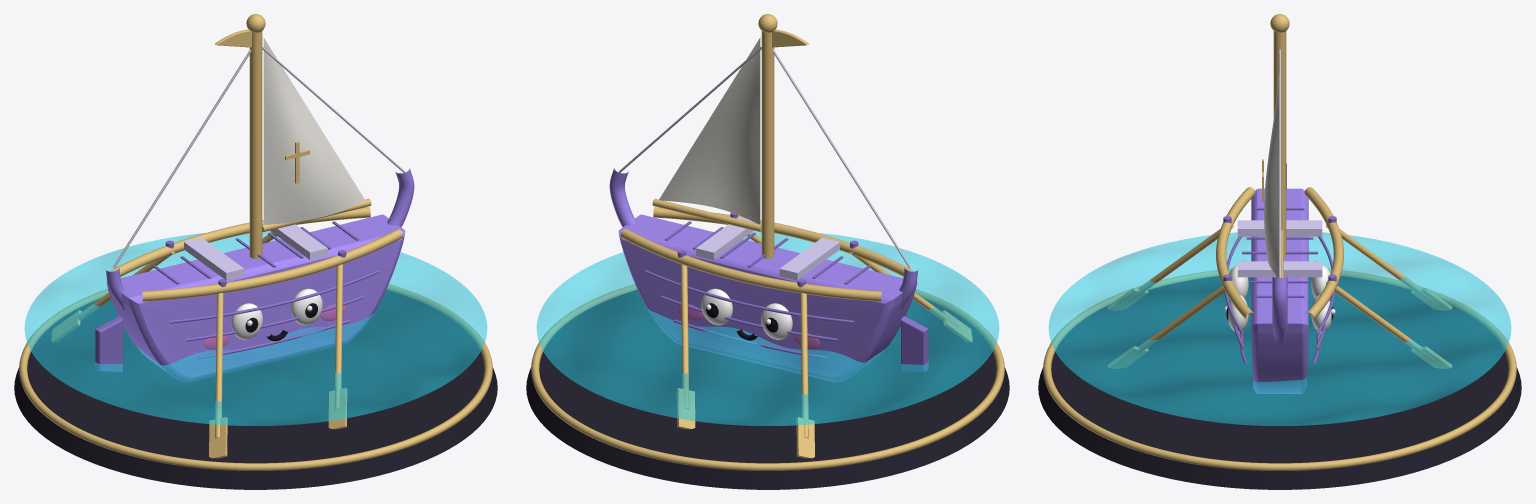
Rendered from lab-irc-navicella.glb.
The picture shows the model from 3 angles, left to right: view 1: azimuth 30°, elevation 25°; view 2: azimuth 150°, elevation 25°; view 3: azimuth 270°, elevation 25°; orthographic projection.
Visible parts, largest first — view 1: basamento, mare, scafo, vela, bordo_oro, albero, capodibanda_dx, capodibanda_sx, timone, panca_1, remo_dx_1, panca_2 (+10 smaller); view 2: basamento, mare, scafo, vela, bordo_oro, albero, capodibanda_sx, capodibanda_dx, timone, panca_1, panca_2, remo_sx_1 (+11 smaller); view 3: basamento, mare, scafo, bordo_oro, vela, albero, capodibanda_sx, capodibanda_dx, panca_2, panca_1, prua, sartia_prua (+4 smaller).
Boxes of the visible parts, box(x1,y1,x2,y2) form: basamento: box(14, 290, 497, 489); mare: box(24, 230, 487, 425); scafo: box(106, 214, 405, 382); vela: box(263, 37, 364, 224); bordo_oro: box(19, 284, 492, 470); albero: box(249, 31, 262, 258); capodibanda_dx: box(142, 229, 403, 301); capodibanda_sx: box(111, 207, 370, 276); timone: box(95, 316, 122, 372); panca_1: box(184, 237, 244, 280); remo_dx_1: box(215, 293, 223, 438); panca_2: box(270, 224, 327, 259); basamento: box(526, 290, 1009, 489); mare: box(536, 230, 999, 425); scafo: box(618, 214, 917, 382); vela: box(659, 37, 760, 224); bordo_oro: box(531, 284, 1004, 470); albero: box(761, 31, 774, 258); capodibanda_sx: box(620, 229, 881, 301); capodibanda_dx: box(653, 207, 912, 276); timone: box(901, 316, 928, 372); panca_1: box(779, 237, 839, 280); panca_2: box(696, 217, 755, 259); remo_sx_1: box(800, 293, 808, 438); basamento: box(1038, 276, 1521, 489); mare: box(1048, 232, 1511, 425); scafo: box(1251, 188, 1308, 393); bordo_oro: box(1043, 268, 1516, 470); vela: box(1264, 54, 1279, 277); albero: box(1273, 31, 1286, 257); capodibanda_sx: box(1304, 187, 1343, 319); capodibanda_dx: box(1216, 187, 1255, 319); panca_2: box(1237, 261, 1322, 277); panca_1: box(1237, 220, 1322, 236); prua: box(1272, 277, 1287, 342); sartia_prua: box(1278, 49, 1281, 277).
Bounding box in the file's own units: 0.7 × 0.596 × 0.7.
